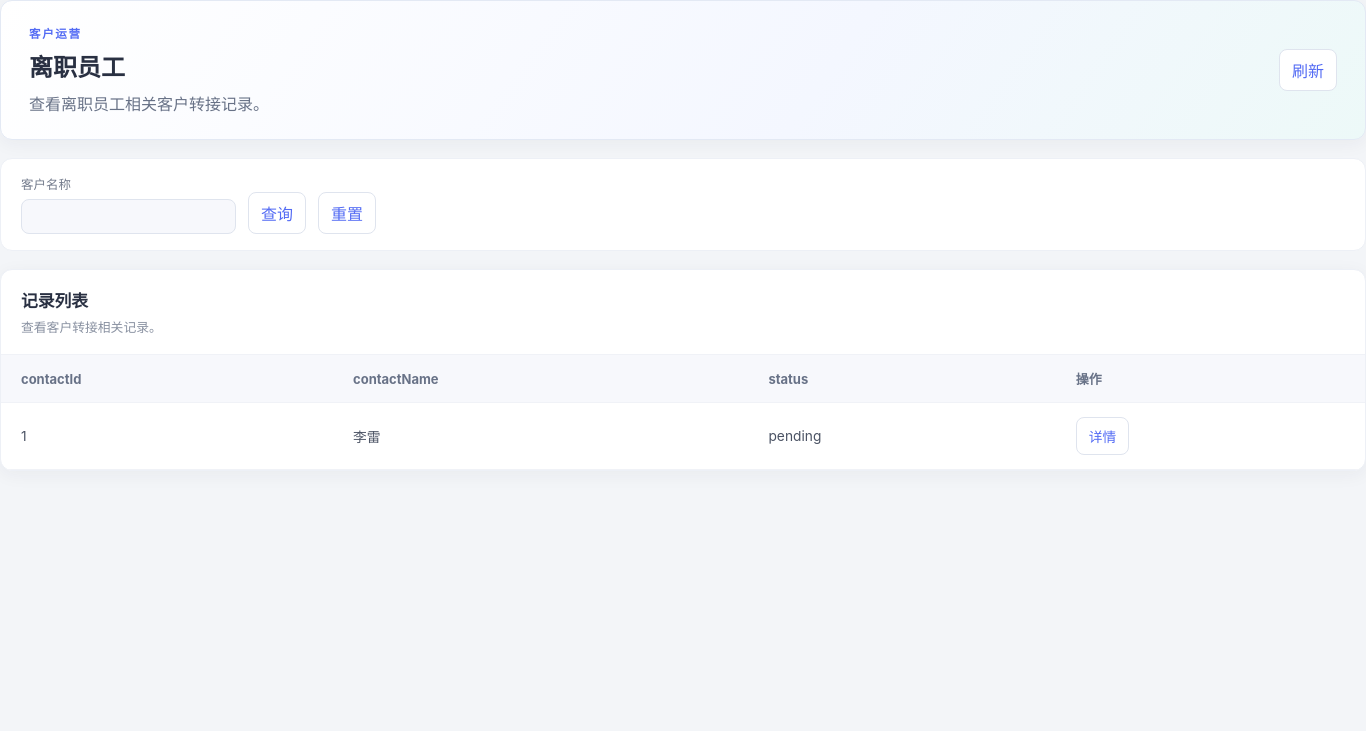
Test: CustomerTransferPage › opens record detail
Click the button "详情": (1102, 436) [1076,417,1129,455]
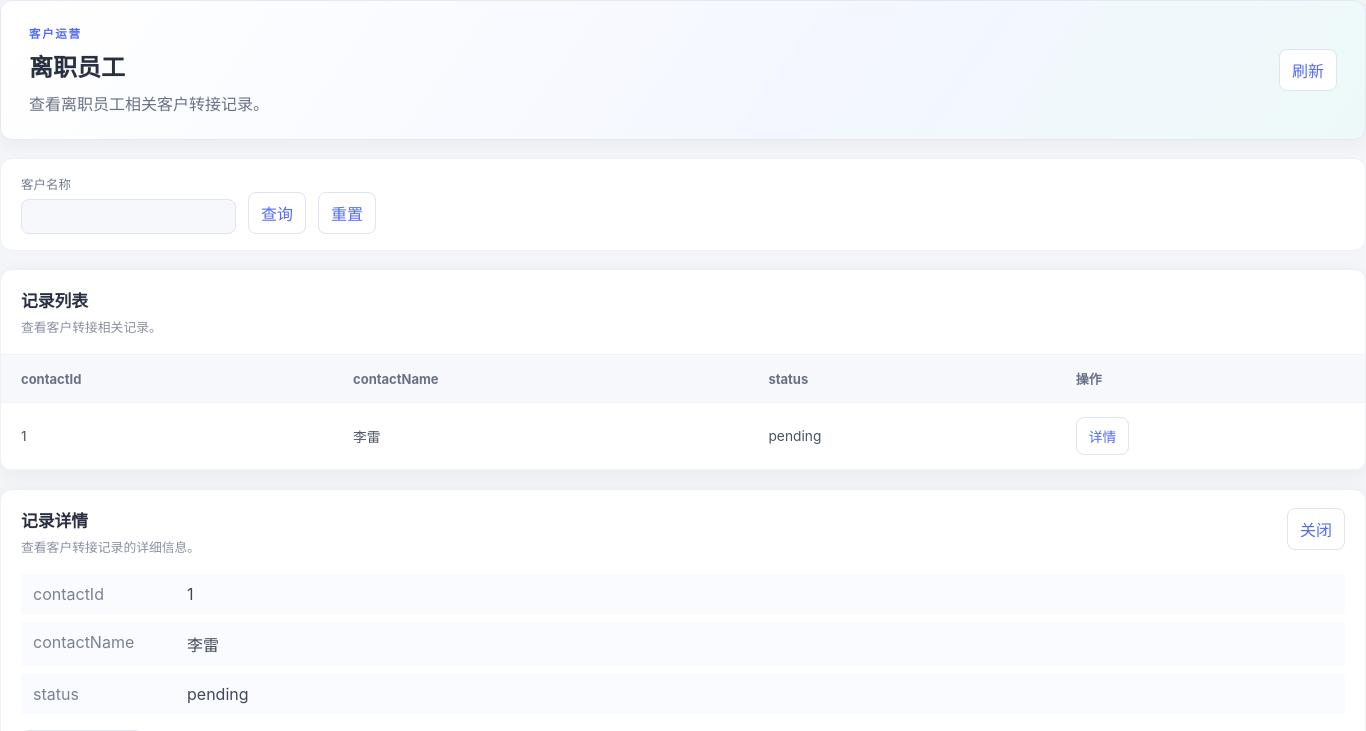
Expected: the heading "记录详情" is shown, [21,511,88,531]
